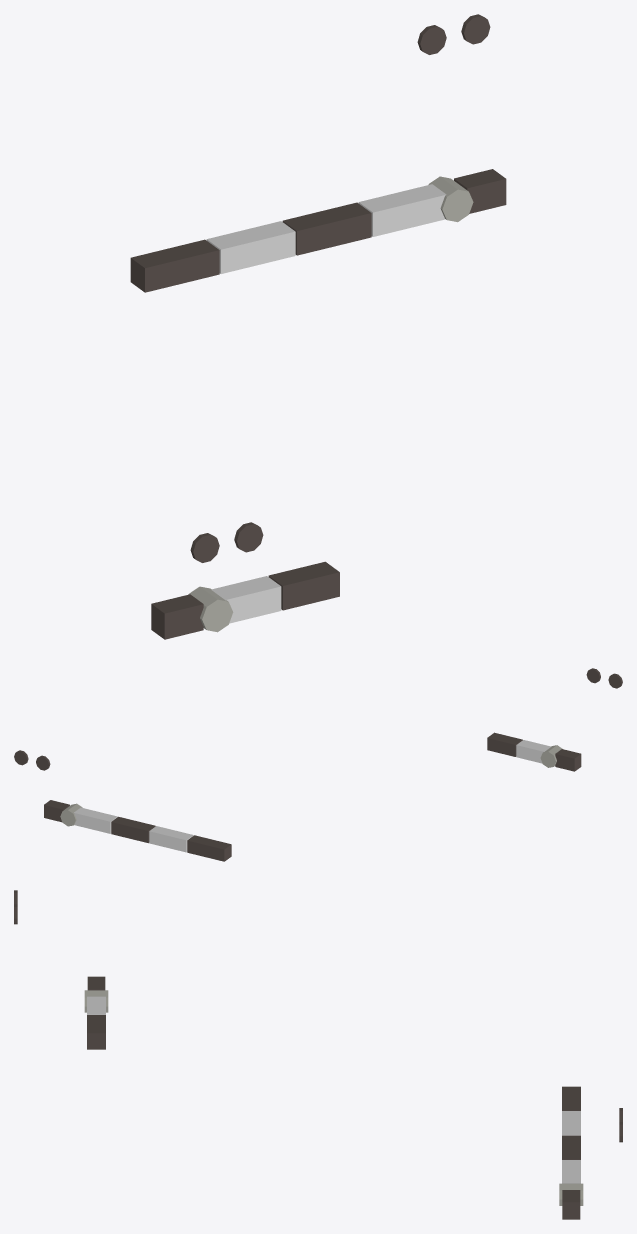
File: SM_PasoNivel_90E_v2_Abandonado_LOD1.fbx
3 renders of one model, top to bottom at view 1: azimuth 30°, elevation 25°; view 2: azimuth 150°, elevation 25°; view 3: azimuth 270°, elevation 25°, orthographic. The views are drawn at different scales.
Parts seen in each view (by area): view 1: Barrera_1, Barrera_2, Luces_B, Luces_A; view 2: Barrera_1, Barrera_2, Luces_B, Luces_A; view 3: Barrera_1, Barrera_2.
Part boxes in pixels (x1=…): Barrera_1: x1=130, y1=169, x2=506, y2=292; Barrera_2: x1=151, y1=561, x2=339, y2=639; Luces_B: x1=234, y1=14, x2=490, y2=552; Luces_A: x1=190, y1=25, x2=446, y2=562; Barrera_1: x1=44, y1=800, x2=231, y2=861; Barrera_2: x1=487, y1=732, x2=581, y2=771; Luces_B: x1=14, y1=668, x2=600, y2=765; Luces_A: x1=36, y1=673, x2=622, y2=770; Barrera_1: x1=559, y1=1086, x2=583, y2=1219; Barrera_2: x1=84, y1=976, x2=108, y2=1049.
Size of what is drawn, in the model's own units: 9.7 by 1.91 by 10.26.
